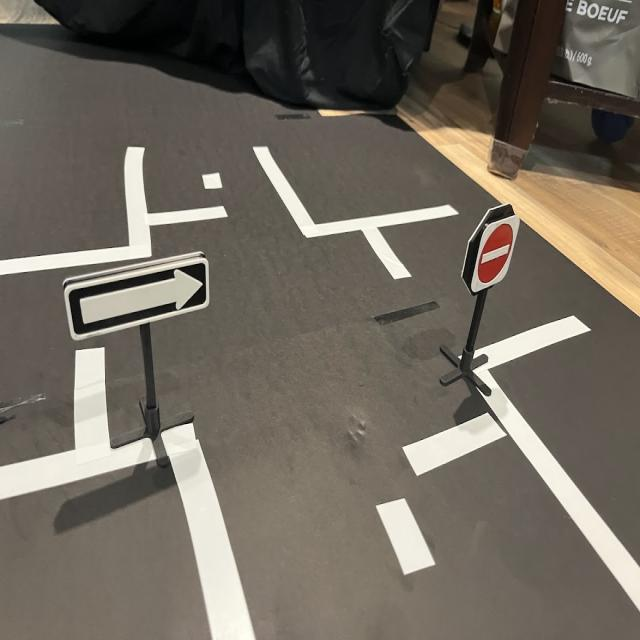sign_noentry: (469, 216, 521, 296)
sign_oneway_right: (66, 252, 212, 345)
